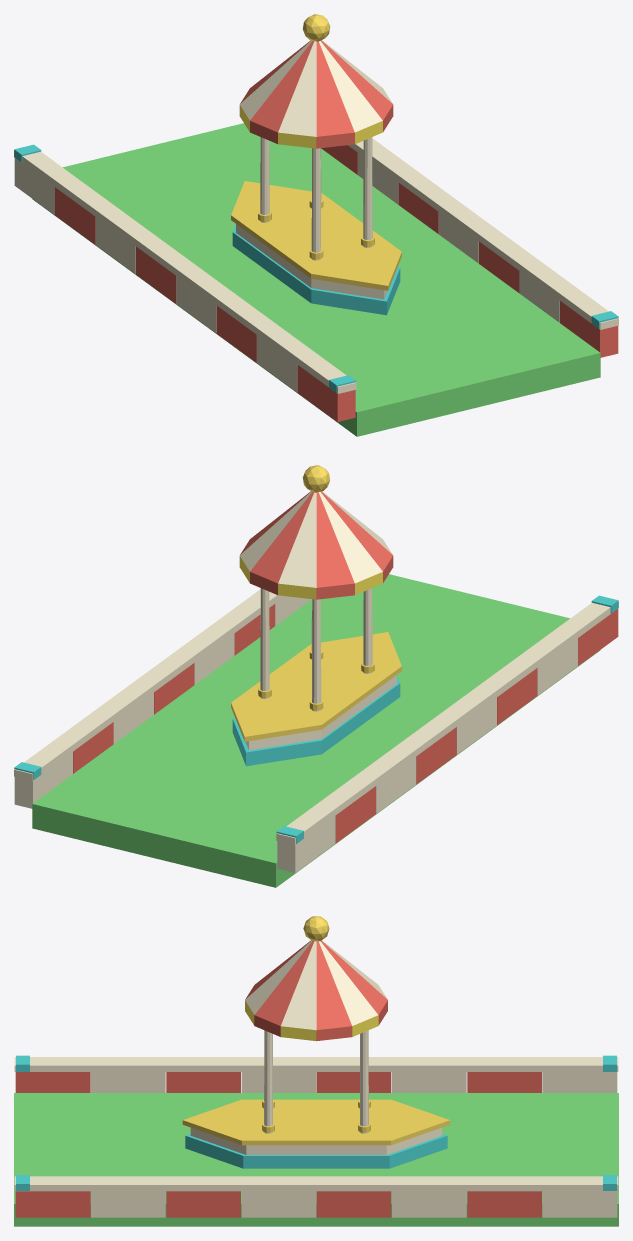
File: carnival_split_lane_6x12.glb
3 views of the same model, one above another, from view 1: azimuth 30°, elevation 25°; view 2: azimuth 150°, elevation 25°; view 3: azimuth 270°, elevation 25° (orthographic). The views are drawn at different scales.
Parts seen in each view (by area): view 1: Mesh_Floor.007, Mesh_Carousel_Island, Mesh_Wall_L.009, Mesh_Wall_R.009; view 2: Mesh_Floor.007, Mesh_Carousel_Island, Mesh_Wall_L.009, Mesh_Wall_R.009; view 3: Mesh_Floor.007, Mesh_Carousel_Island, Mesh_Wall_R.009, Mesh_Wall_L.009.
Part boxes in pixels (x1,y1,x2,y2): Mesh_Floor.007: (32, 123, 600, 436); Mesh_Carousel_Island: (231, 14, 401, 315); Mesh_Wall_L.009: (14, 144, 356, 421); Mesh_Wall_R.009: (321, 138, 618, 357); Mesh_Floor.007: (32, 574, 600, 887); Mesh_Carousel_Island: (231, 465, 401, 766); Mesh_Wall_L.009: (276, 595, 618, 872); Mesh_Wall_R.009: (14, 589, 311, 808); Mesh_Floor.007: (14, 1093, 618, 1226); Mesh_Carousel_Island: (182, 916, 450, 1168); Mesh_Wall_R.009: (14, 1175, 618, 1217); Mesh_Wall_L.009: (14, 1055, 618, 1092).
Size of what is drawn, in the model's own units: 6.02 by 5.57 by 12.
